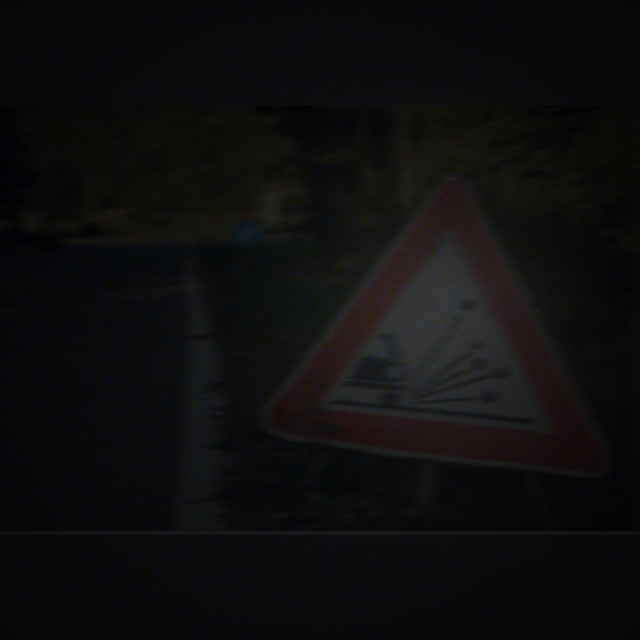Loose_Gravel: (276, 174, 604, 476)
